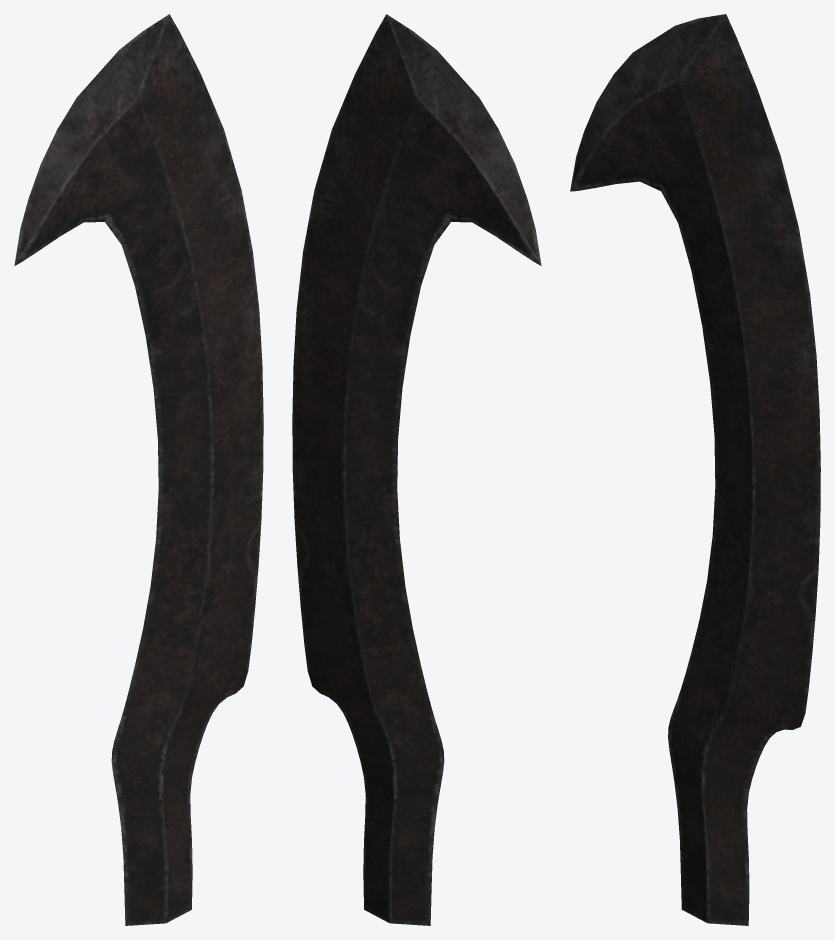
File: wm_dol_goldur_1h_sword_a03_blade.fbx
3 renders of one model, left to right at view 1: azimuth 30°, elevation 25°; view 2: azimuth 150°, elevation 25°; view 3: azimuth 330°, elevation 25°, orthographic.
Parts seen in each view (by area): view 1: wm_dol_goldur_1h_sword_a03_blade; view 2: wm_dol_goldur_1h_sword_a03_blade; view 3: wm_dol_goldur_1h_sword_a03_blade.
Part boxes in pixels (bbox=[...]): wm_dol_goldur_1h_sword_a03_blade: bbox=[14, 14, 263, 925]; wm_dol_goldur_1h_sword_a03_blade: bbox=[292, 14, 541, 925]; wm_dol_goldur_1h_sword_a03_blade: bbox=[570, 14, 820, 925].
Bounding box in the file's own units: 0.1804 × 0.0203 × 0.6233.
1 material, 1 textured.
